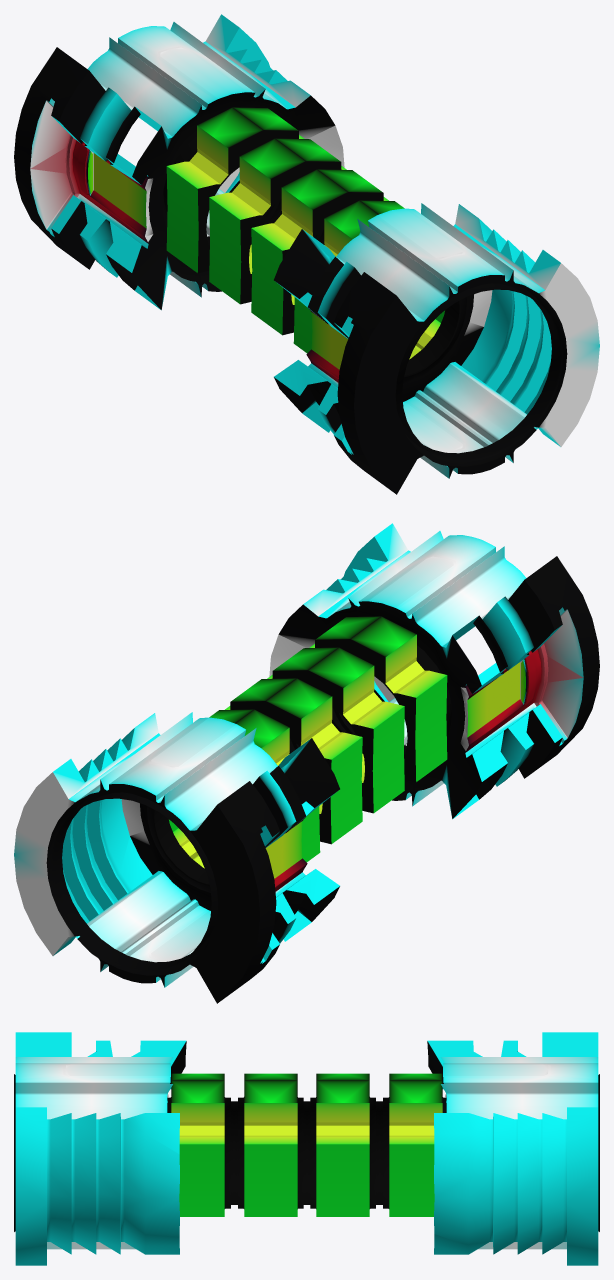
The model's file is part_main-lod0.dae.
The picture shows the model from 3 angles, top to bottom: view 1: azimuth 30°, elevation 25°; view 2: azimuth 150°, elevation 25°; view 3: azimuth 270°, elevation 25°; orthographic projection. The views are drawn at different scales.
Parts seen in each view (by area): view 1: part_main-lod0Xlod0Xp2genericXgen_p2_hullpattern_01, part_main-lod0Xlod0Xp2genericXgen_p2_hulltextureaged_02, part_main-lod0Xlod0Xp2genericXgen_p2_hulltexture_02_c, part_main-lod0Xlod0Xp2multimatXp2_multimat_01; view 2: part_main-lod0Xlod0Xp2genericXgen_p2_hullpattern_01, part_main-lod0Xlod0Xp2genericXgen_p2_hulltextureaged_02, part_main-lod0Xlod0Xp2genericXgen_p2_hulltexture_02_c, part_main-lod0Xlod0Xp2multimatXp2_multimat_01; view 3: part_main-lod0Xlod0Xp2genericXgen_p2_hulltextureaged_02, part_main-lod0Xlod0Xp2genericXgen_p2_hullpattern_01, part_main-lod0Xlod0Xp2genericXgen_p2_hulltexture_02_c.
Boxes of the visible parts, bbox=[...] form: part_main-lod0Xlod0Xp2genericXgen_p2_hullpattern_01: bbox=[14, 14, 599, 494]; part_main-lod0Xlod0Xp2genericXgen_p2_hulltextureaged_02: bbox=[30, 22, 567, 473]; part_main-lod0Xlod0Xp2genericXgen_p2_hulltexture_02_c: bbox=[87, 26, 535, 478]; part_main-lod0Xlod0Xp2multimatXp2_multimat_01: bbox=[73, 106, 360, 431]; part_main-lod0Xlod0Xp2genericXgen_p2_hullpattern_01: bbox=[14, 523, 599, 1003]; part_main-lod0Xlod0Xp2genericXgen_p2_hulltextureaged_02: bbox=[46, 531, 583, 982]; part_main-lod0Xlod0Xp2genericXgen_p2_hulltexture_02_c: bbox=[78, 535, 526, 987]; part_main-lod0Xlod0Xp2multimatXp2_multimat_01: bbox=[253, 615, 540, 940]; part_main-lod0Xlod0Xp2genericXgen_p2_hulltextureaged_02: bbox=[14, 1057, 599, 1254]; part_main-lod0Xlod0Xp2genericXgen_p2_hullpattern_01: bbox=[15, 1032, 598, 1265]; part_main-lod0Xlod0Xp2genericXgen_p2_hulltexture_02_c: bbox=[15, 1063, 598, 1249].
Bounding box in the file's own units: 26.76 × 20.69 × 64.39.
